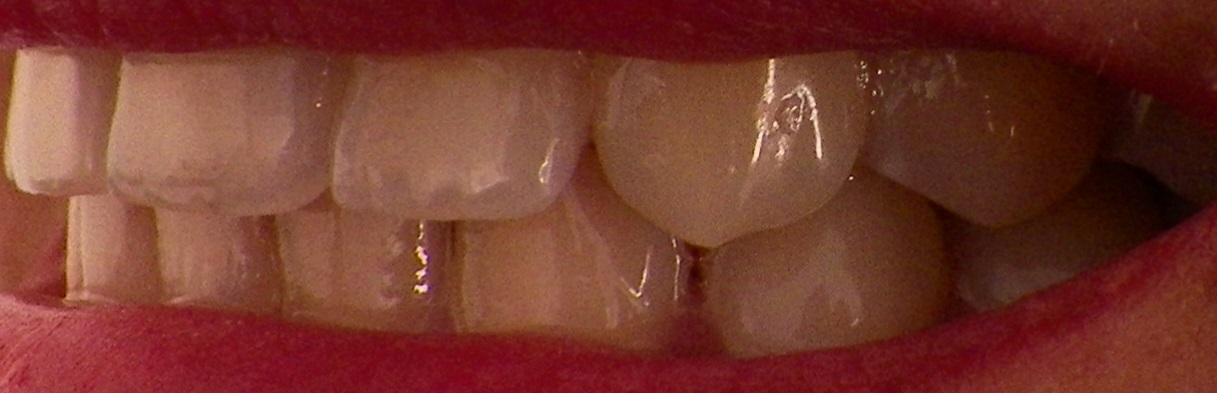boca: (3, 43, 1106, 349)
